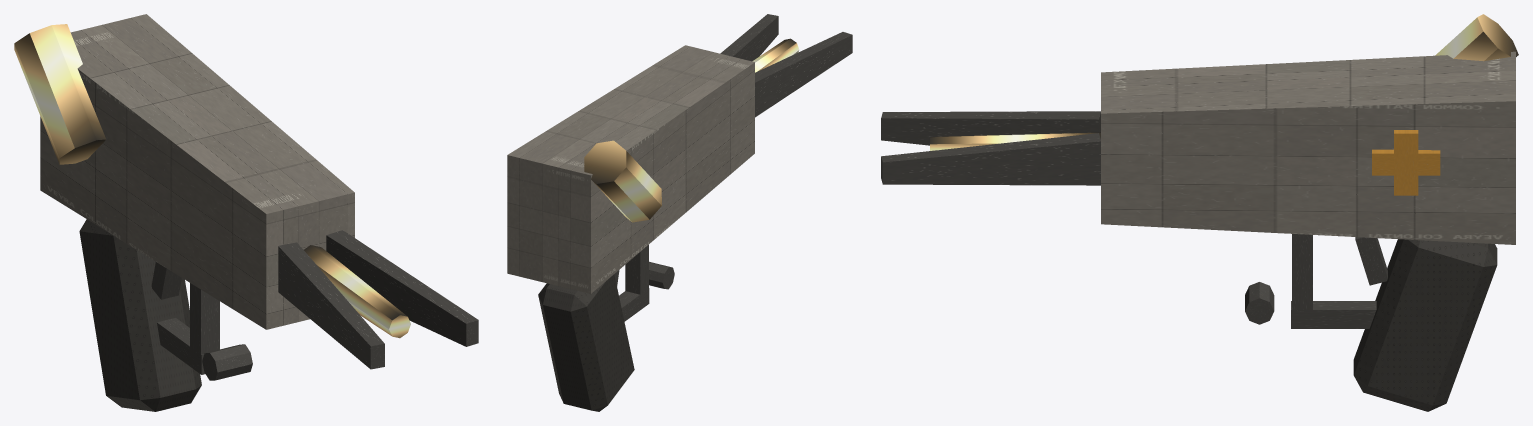
File: tool_med.obj
3 renders of one model, left to right at view 1: azimuth 30°, elevation 25°; view 2: azimuth 150°, elevation 25°; view 3: azimuth 270°, elevation 25°, orthographic. The views are drawn at different scales.
Visible parts, largest first — view 1: tool_med; view 2: tool_med; view 3: tool_med.
Boxes of the visible parts, box(x1,y1,x2,y2) form: tool_med: box(14, 14, 478, 411); tool_med: box(507, 14, 852, 411); tool_med: box(881, 14, 1518, 411).
Bounding box in the file's own units: 0.0665 × 0.1616 × 0.2612.
Materials: 1 (1 with a texture image).
